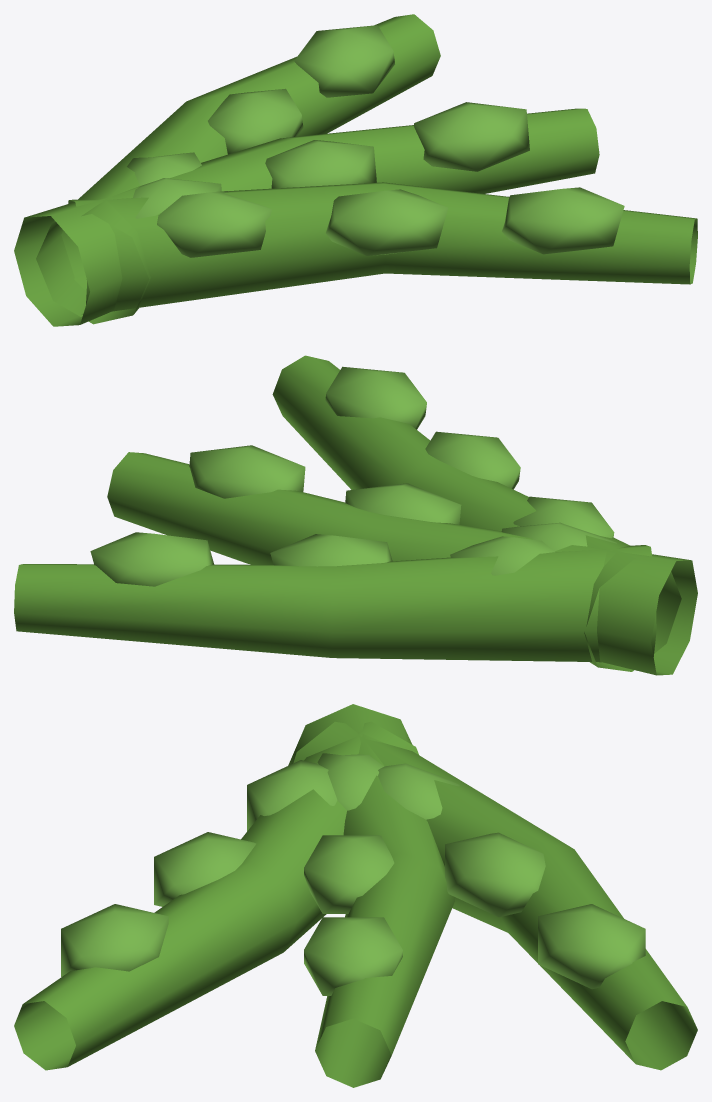
Rendered from item_veg_edamame.glb.
The picture shows the model from 3 angles, top to bottom: view 1: azimuth 30°, elevation 25°; view 2: azimuth 150°, elevation 25°; view 3: azimuth 270°, elevation 25°; orthographic projection. The views are drawn at different scales.
Visible parts, largest first — view 1: item_veg_edamame_gloss; view 2: item_veg_edamame_gloss; view 3: item_veg_edamame_gloss.
Boxes of the visible parts, <box> form: item_veg_edamame_gloss: <box>14,14,697,326</box>; item_veg_edamame_gloss: <box>14,355,697,675</box>; item_veg_edamame_gloss: <box>14,704,697,1087</box>.
Size of the model in its own units: 0.1431 by 0.03 by 0.141.
